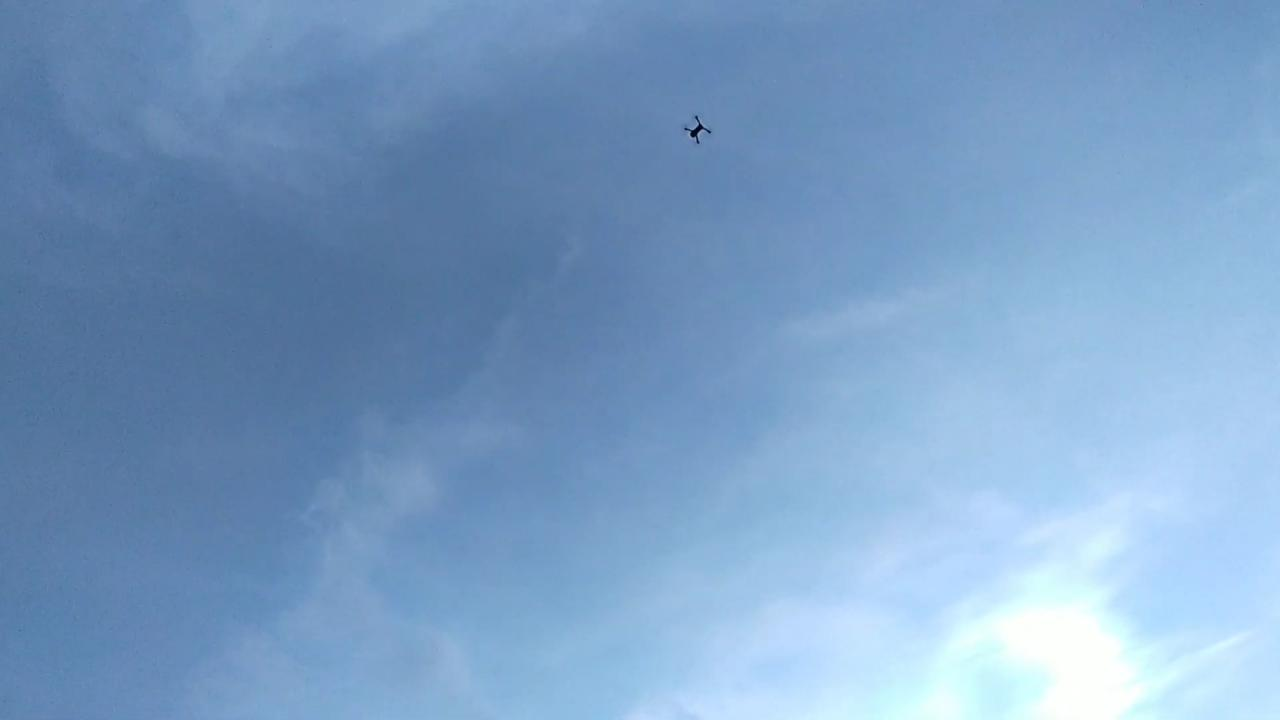Drone: (669, 107, 722, 156)
